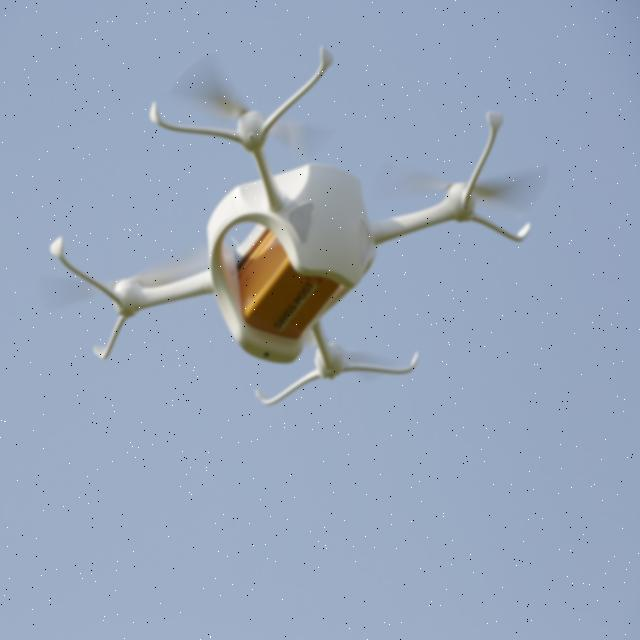UAV: (52, 44, 533, 413)
